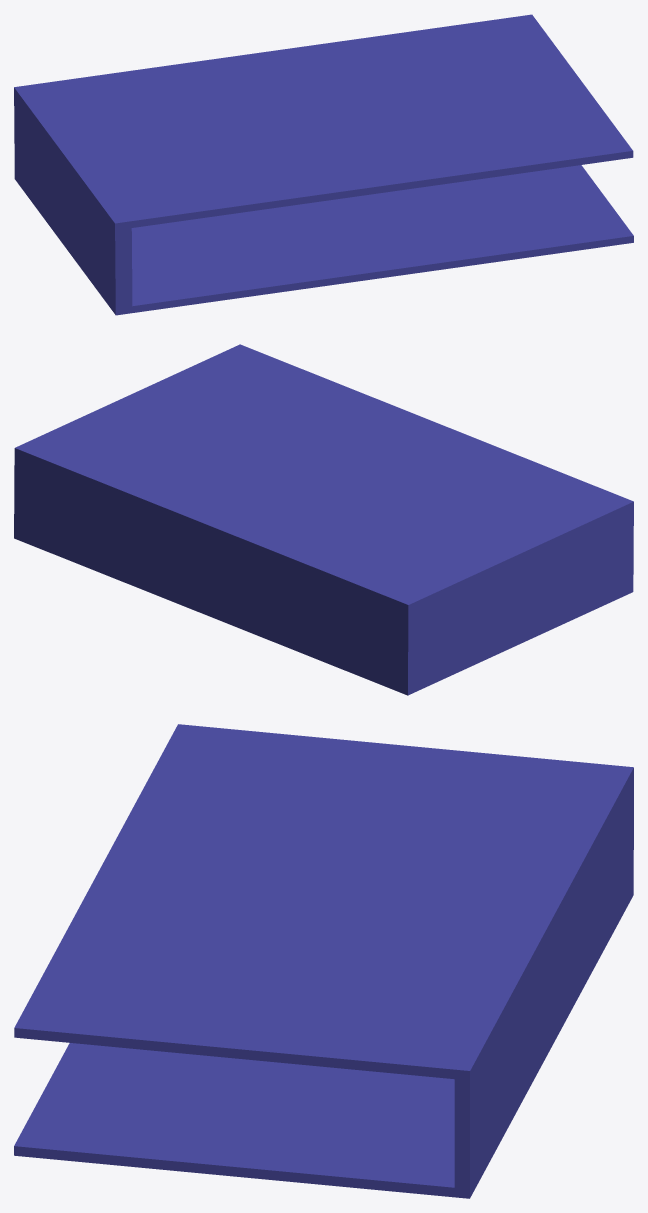
Rendered from book_material.011_0_lev1.glb.
3 renders of one model, top to bottom at view 1: azimuth 30°, elevation 25°; view 2: azimuth 150°, elevation 25°; view 3: azimuth 270°, elevation 25°, orthographic. The views are drawn at different scales.
Parts seen in each view (by area): view 1: book_material.011_0_lev1; view 2: book_material.011_0_lev1; view 3: book_material.011_0_lev1.
Part boxes in pixels (x1,y1,x2,y2): book_material.011_0_lev1: (14,14,633,315); book_material.011_0_lev1: (14,344,633,695); book_material.011_0_lev1: (14,724,633,1198).
Bounding box in the file's own units: 23.66 × 4.15 × 17.55.
